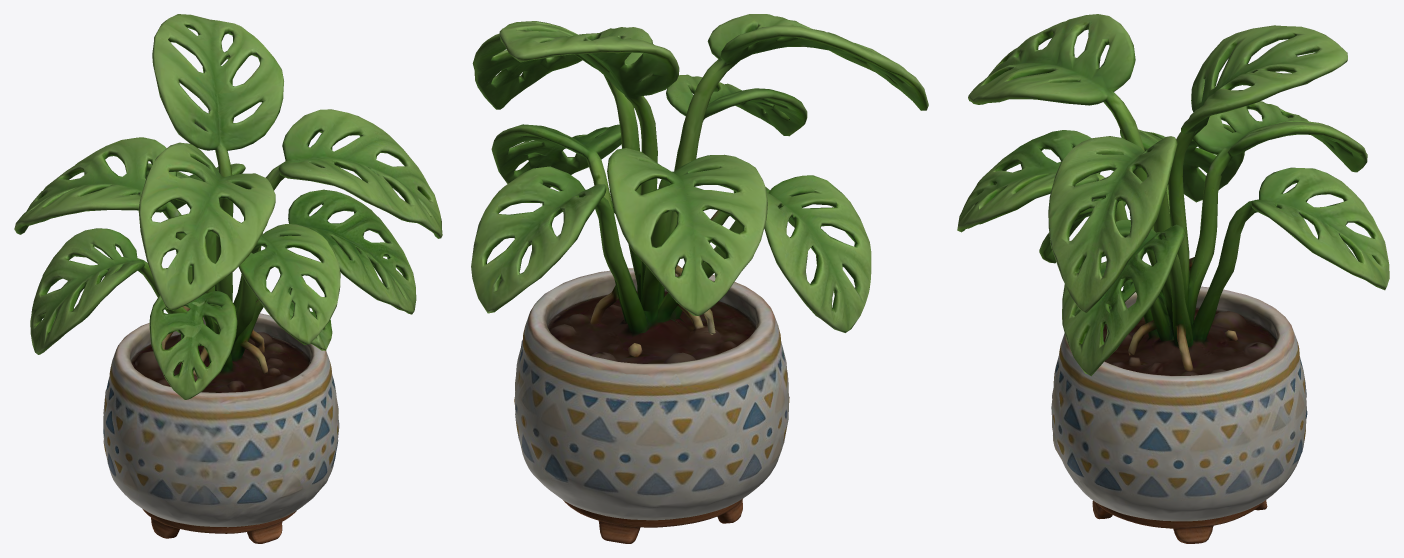
Rendered from plant.glb.
3 views of the same model, side by side, from view 1: azimuth 30°, elevation 25°; view 2: azimuth 150°, elevation 25°; view 3: azimuth 270°, elevation 25° (orthographic). The views are drawn at different scales.
Visible parts, largest first — view 1: tripo_node_f2077ff8-03bf-492c-9957-903c5d955270; view 2: tripo_node_f2077ff8-03bf-492c-9957-903c5d955270; view 3: tripo_node_f2077ff8-03bf-492c-9957-903c5d955270.
Part boxes in pixels (box(x1,y1,x2,y2)): tripo_node_f2077ff8-03bf-492c-9957-903c5d955270: box(14, 14, 442, 543); tripo_node_f2077ff8-03bf-492c-9957-903c5d955270: box(471, 14, 928, 543); tripo_node_f2077ff8-03bf-492c-9957-903c5d955270: box(957, 14, 1389, 543).
Size of the model in its own units: 0.842 by 0.9806 by 0.8009.
1 material, 1 textured.
